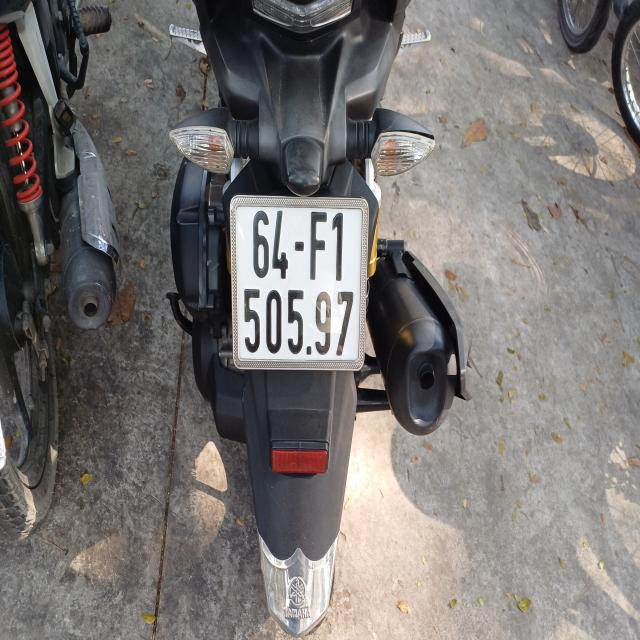0: (266, 288, 282, 355)
1: (332, 212, 346, 282)
4: (272, 211, 288, 279)
5: (243, 284, 260, 353), (287, 288, 304, 355)
6: (251, 206, 270, 280)
7: (335, 289, 354, 353)
9: (315, 292, 331, 354)
F: (308, 208, 326, 282)
